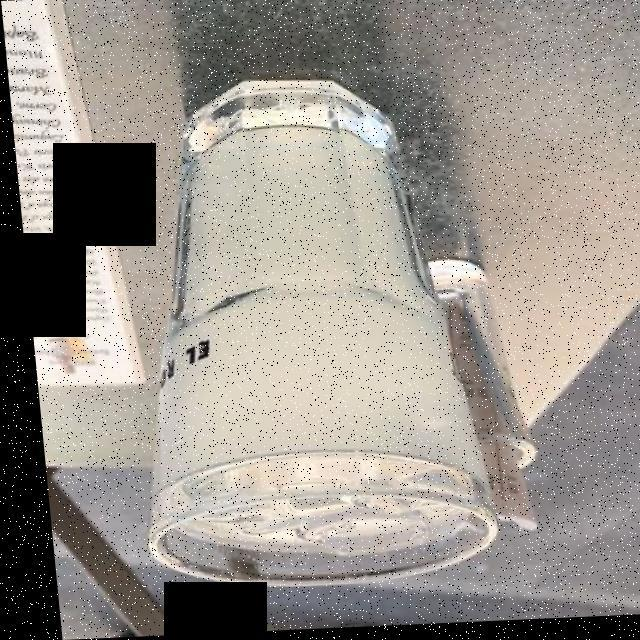water: (140, 128, 478, 556)
